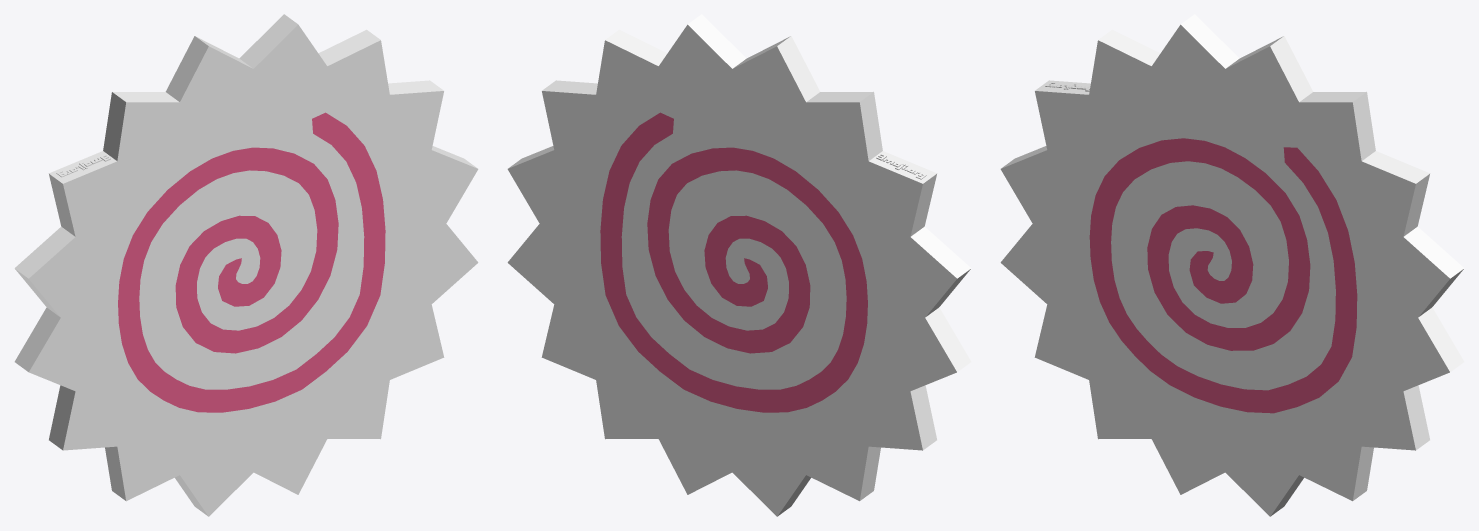
File: fish_cake_with_swirl.fbx
3 views of the same model, side by side, from view 1: azimuth 30°, elevation 25°; view 2: azimuth 150°, elevation 25°; view 3: azimuth 330°, elevation 25° (orthographic).
Parts seen in each view (by area): view 1: Circle.2248; view 2: Circle.2248; view 3: Circle.2248.
Boxes of the visible parts, bbox=[...] form: Circle.2248: bbox=[14, 14, 478, 516]; Circle.2248: bbox=[507, 14, 971, 516]; Circle.2248: bbox=[1000, 14, 1464, 516].
Bounding box in the file's own units: 224 × 224 × 12.29.
1 material, 1 textured.
